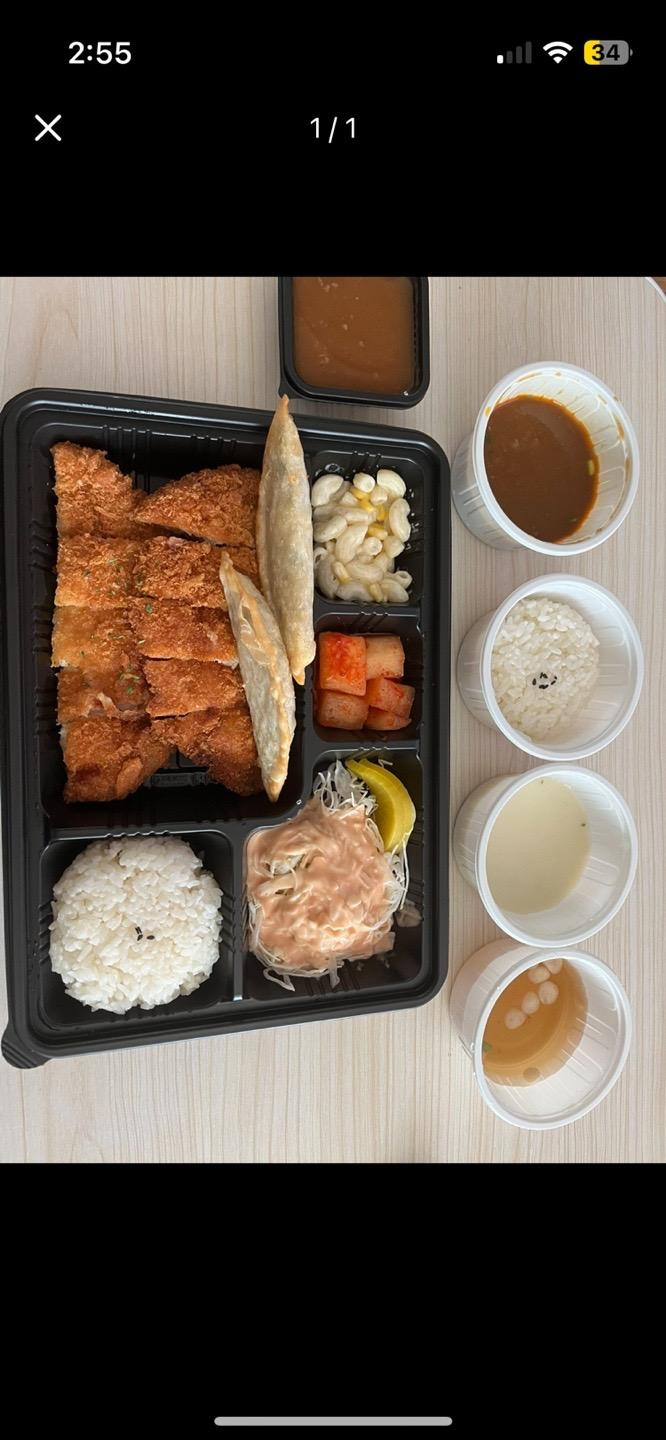Lunch Box: (0, 391, 449, 1066), (278, 276, 429, 408)
cup: (452, 362, 638, 555), (457, 575, 643, 759), (453, 763, 637, 949), (452, 942, 630, 1129)
